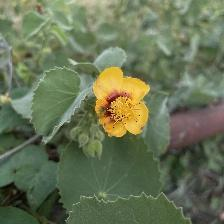indian mallow: (95, 66, 153, 142)
